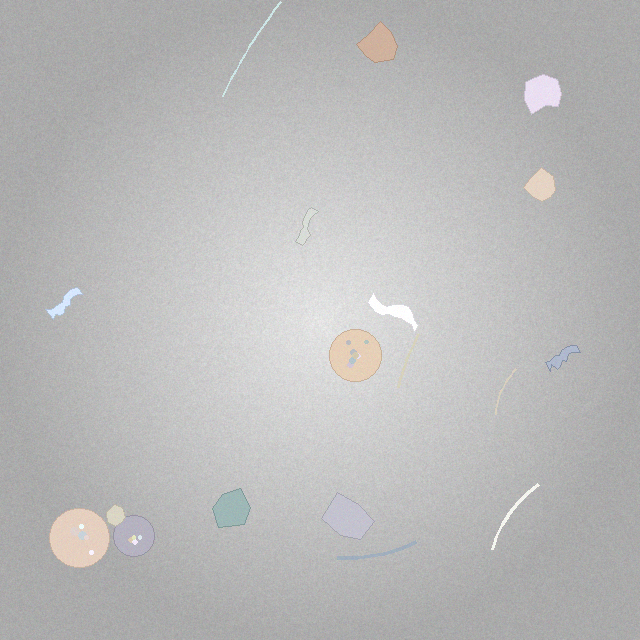fiber: (220, 0, 283, 98), (489, 481, 542, 553), (333, 538, 420, 563), (395, 332, 422, 390), (493, 367, 519, 417)
film: (367, 292, 419, 333), (46, 288, 83, 320), (546, 345, 580, 372), (296, 208, 319, 246)
foam: (50, 508, 110, 568), (330, 329, 381, 381), (113, 515, 155, 556)
fragment: (322, 492, 374, 539), (357, 21, 397, 62), (524, 74, 562, 115), (212, 489, 250, 527), (523, 168, 556, 202), (106, 504, 125, 527)
